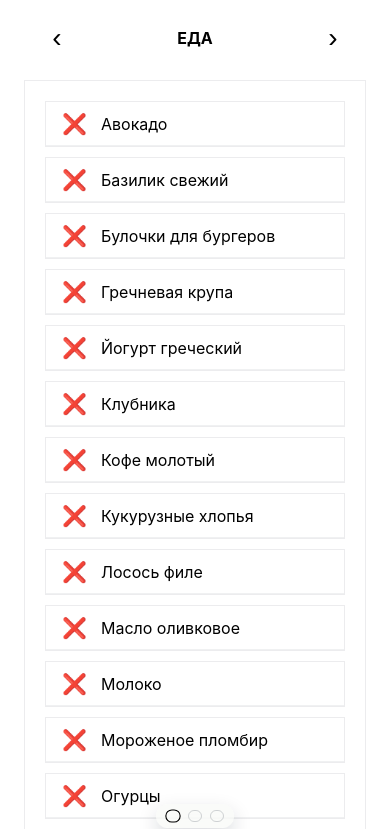
Scenario: Shopping mobile swipe container › moves items between sections when toggled
Click the button "❌ Авокадо" at (134, 124), box x1=45 y1=101 x2=345 y2=147
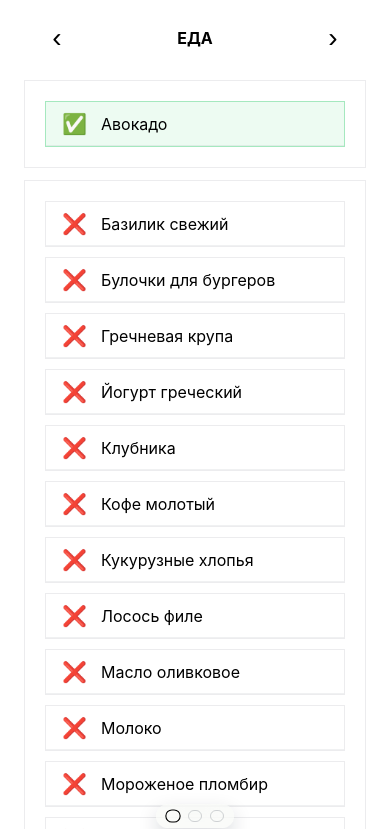
Now the list item with test id "shopping-section-selected" is shown, box x1=24 y1=80 x2=366 y2=168
Click the button "✅ Авокадо" at (134, 124), box x1=45 y1=101 x2=345 y2=147
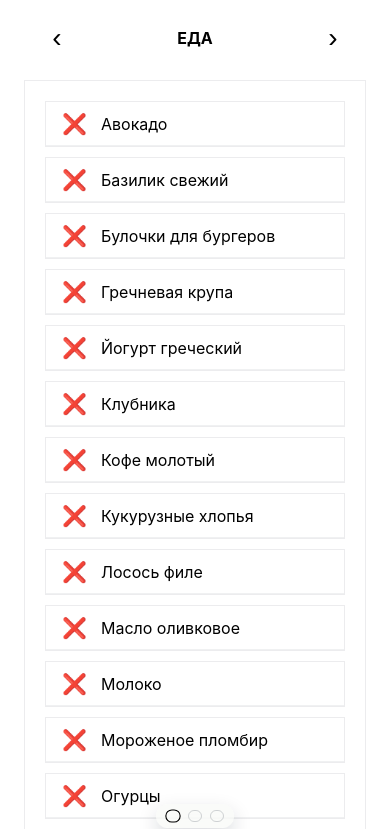
Now the list item with test id "shopping-section-selected" is gone
